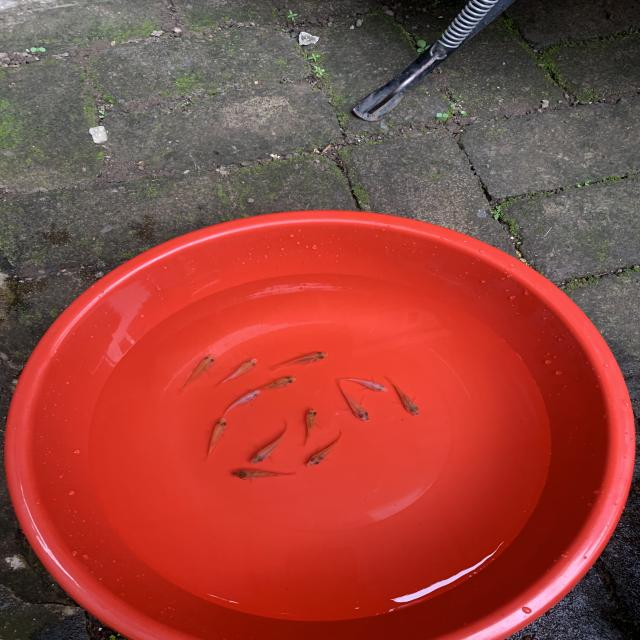nila: (331, 378, 374, 427), (208, 354, 264, 391), (177, 349, 222, 395), (244, 420, 292, 462), (304, 430, 348, 471), (386, 373, 424, 417), (268, 349, 334, 371), (203, 412, 232, 462), (219, 388, 261, 420), (290, 404, 320, 448), (227, 465, 306, 481), (333, 374, 393, 395), (250, 375, 304, 398)
